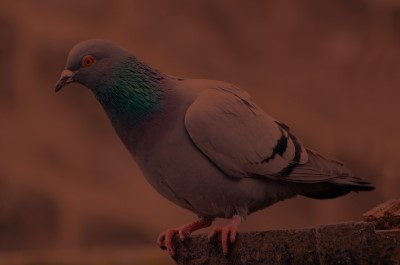pigeon: (53, 35, 377, 258)
